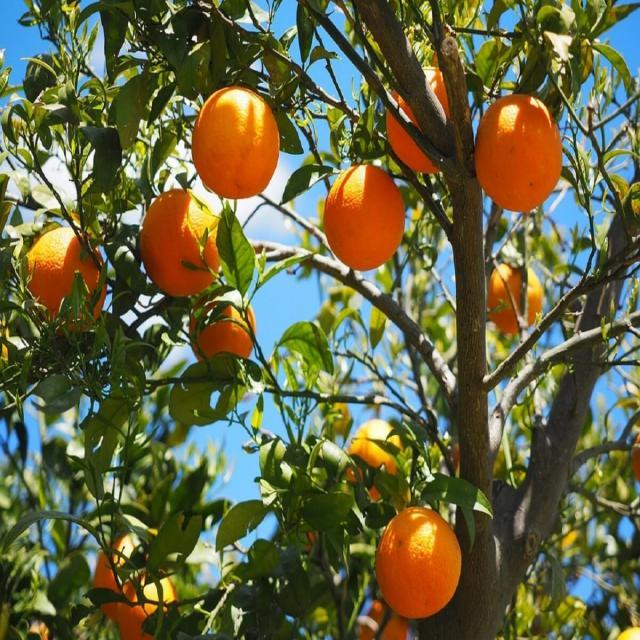Jeruk Sudah Matang: (472, 88, 570, 220), (189, 83, 286, 200), (369, 504, 466, 616), (86, 529, 182, 640), (20, 225, 112, 338), (322, 161, 406, 278), (138, 189, 229, 293), (378, 66, 462, 174), (188, 288, 258, 359), (348, 416, 408, 497), (486, 258, 546, 336)
